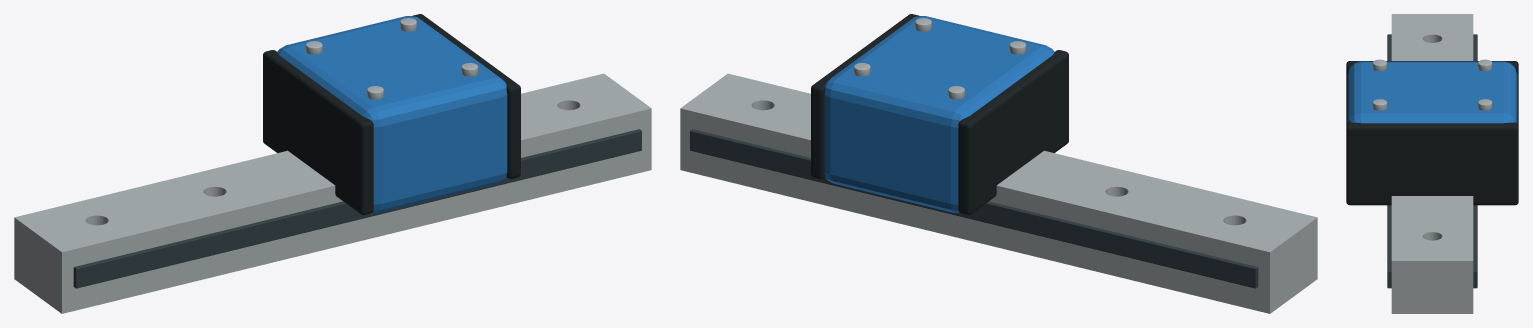
The model's file is profile_rail_linear_guide.glb.
3 views of the same model, side by side, from view 1: azimuth 30°, elevation 25°; view 2: azimuth 150°, elevation 25°; view 3: azimuth 270°, elevation 25° (orthographic). The views are drawn at different scales.
Parts seen in each view (by area): view 1: PROFILE_RAIL, KIN_GUIDE_CARRIAGE, WIPER_-0.05, RACEWAY_GROOVE_-0.145, WIPER_0.45; view 2: PROFILE_RAIL, KIN_GUIDE_CARRIAGE, WIPER_-0.05, RACEWAY_GROOVE_0.145, WIPER_0.45; view 3: PROFILE_RAIL, WIPER_0.45, KIN_GUIDE_CARRIAGE, RACEWAY_GROOVE_0.145, RACEWAY_GROOVE_-0.145, WIPER_-0.05, CARRIAGE_BOLT_0.04_0.18, CARRIAGE_BOLT_0.04_-0.18, CARRIAGE_BOLT_0.36_0.18, CARRIAGE_BOLT_0.36_-0.18.
Boxes of the visible parts, <box> form: PROFILE_RAIL: <box>14,73,651,313</box>; KIN_GUIDE_CARRIAGE: <box>277,16,507,213</box>; WIPER_-0.05: <box>263,50,373,214</box>; RACEWAY_GROOVE_-0.145: <box>73,129,641,288</box>; WIPER_0.45: <box>412,14,520,178</box>; PROFILE_RAIL: <box>680,73,1317,313</box>; KIN_GUIDE_CARRIAGE: <box>824,16,1054,213</box>; WIPER_-0.05: <box>958,50,1068,214</box>; RACEWAY_GROOVE_0.145: <box>690,129,1258,288</box>; WIPER_0.45: <box>811,14,919,178</box>; PROFILE_RAIL: <box>1391,14,1473,313</box>; WIPER_0.45: <box>1346,122,1518,205</box>; KIN_GUIDE_CARRIAGE: <box>1347,61,1517,123</box>; RACEWAY_GROOVE_0.145: <box>1473,34,1477,288</box>; RACEWAY_GROOVE_-0.145: <box>1387,34,1391,288</box>; WIPER_-0.05: <box>1346,61,1518,124</box>; CARRIAGE_BOLT_0.04_0.18: <box>1477,59,1492,71</box>; CARRIAGE_BOLT_0.04_-0.18: <box>1372,59,1387,71</box>; CARRIAGE_BOLT_0.36_0.18: <box>1477,99,1492,110</box>; CARRIAGE_BOLT_0.36_-0.18: <box>1372,99,1387,110</box>.
Bounding box in the file's own units: 2 × 0.502 × 0.59.
